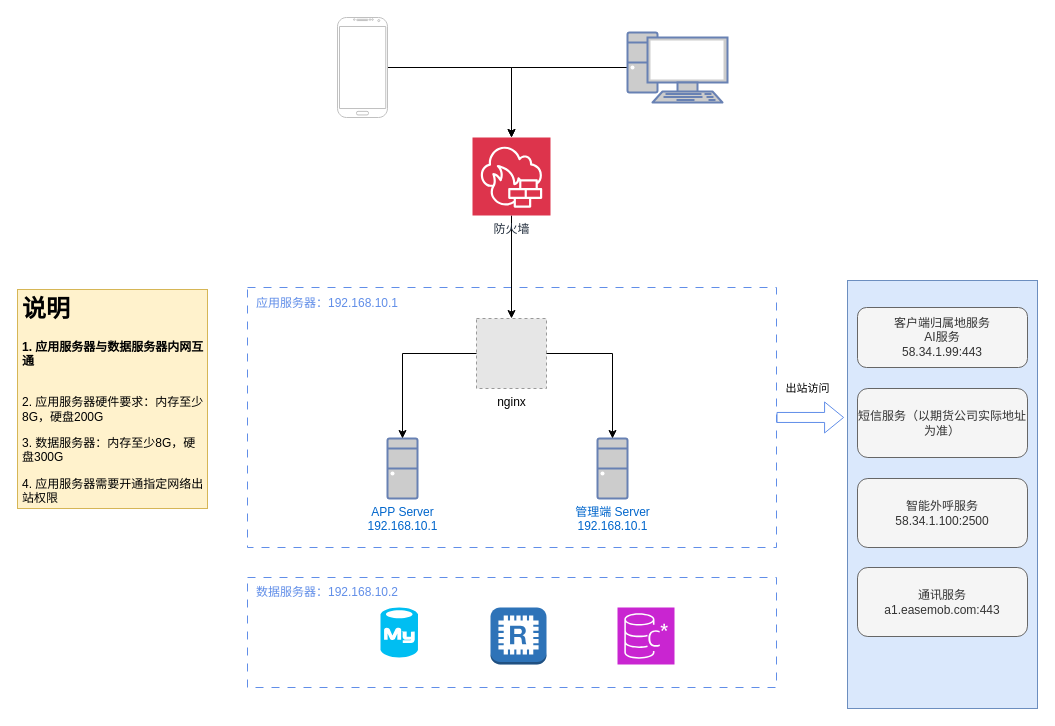
This 1055x726 diagram has some shape labels left out. Grey dashed boxes stand in for pictures. The shapes that lost their labels are listed below. From the top down, each one's centre as x and y in pixels, then its label:
(x=362, y=67): 客户端
(x=677, y=67): 座席端
(x=399, y=632): mysql数据库
(x=518, y=635): Redis
(x=645, y=635): MongoDB
